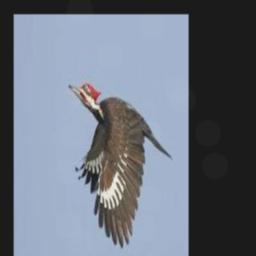Woodpecker: (68, 81, 172, 248)
